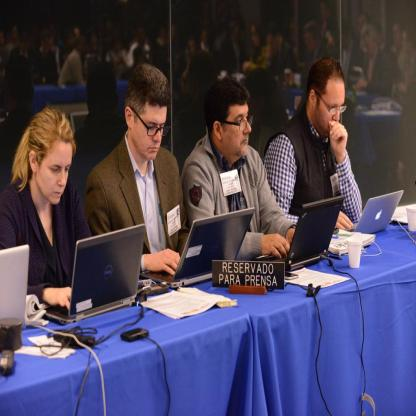board: (47, 222, 153, 330), (139, 209, 255, 288), (256, 196, 344, 272), (0, 246, 29, 326), (350, 190, 403, 233)
